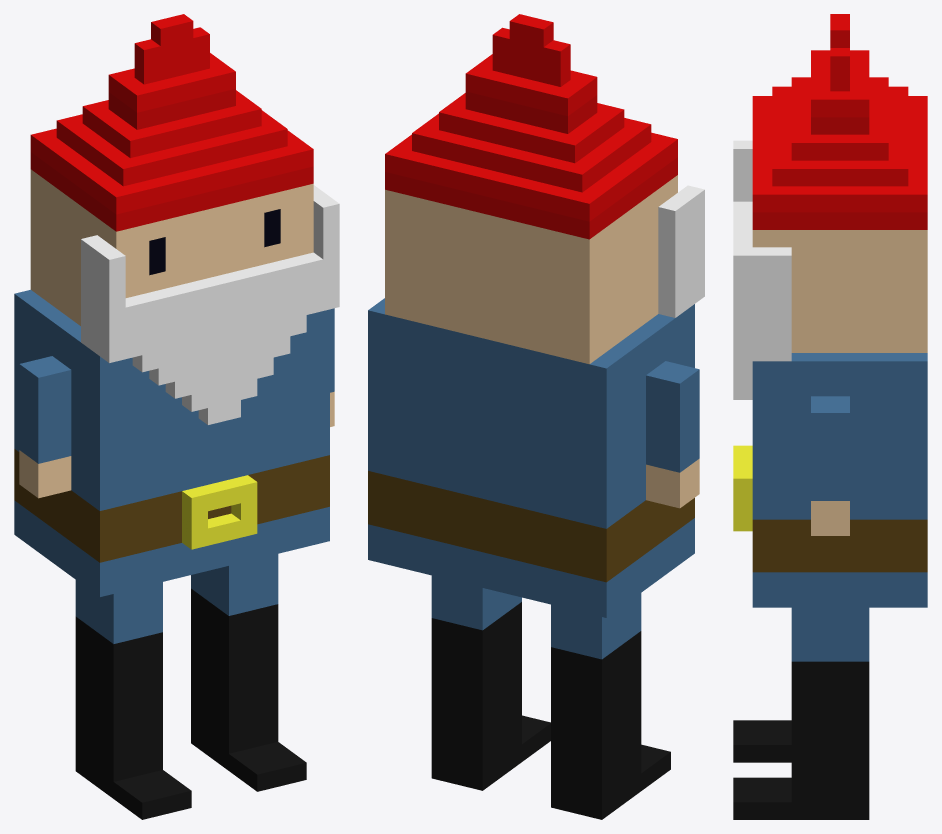
The model's file is Player12.obj.
The picture shows the model from 3 angles, left to right: view 1: azimuth 30°, elevation 25°; view 2: azimuth 150°, elevation 25°; view 3: azimuth 270°, elevation 25°; orthographic projection. The views are drawn at different scales.
Visible parts, largest first — view 1: Player12; view 2: Player12; view 3: Player12.
Part boxes in pixels (x1=…): Player12: x1=14, y1=14, x2=339, y2=819; Player12: x1=368, y1=14, x2=704, y2=819; Player12: x1=733, y1=14, x2=927, y2=819.
Size of the model in its own units: 18 by 43 by 10.
